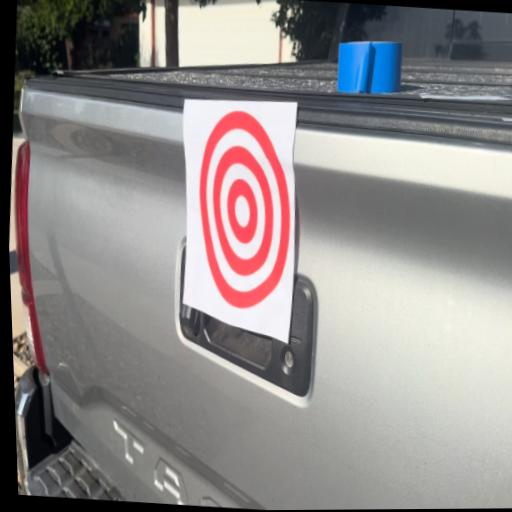bullseye: (187, 108, 301, 312)
